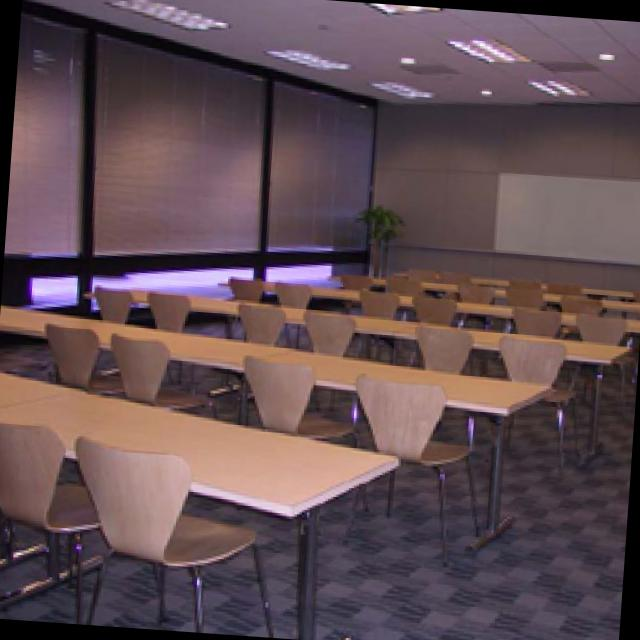2001: (3, 0, 380, 308)
ceiling beam: (29, 0, 640, 109)
ceiling lamps: (119, 0, 236, 31), (450, 34, 534, 64), (269, 44, 356, 72), (527, 74, 594, 93)
chair: (417, 323, 476, 373), (230, 274, 317, 304), (304, 311, 359, 352), (239, 299, 290, 340), (150, 289, 193, 328), (96, 282, 139, 319), (581, 311, 631, 339), (514, 306, 563, 329), (362, 288, 402, 315), (419, 292, 462, 317), (509, 281, 548, 298), (562, 293, 602, 307), (467, 283, 503, 297)
chair -occluded-: (75, 436, 278, 630), (356, 371, 485, 562), (0, 418, 103, 612), (499, 331, 585, 470), (245, 353, 362, 443), (111, 331, 219, 413), (45, 319, 121, 391)
plant -x: (358, 204, 407, 270)
table -X: (4, 303, 556, 547), (0, 366, 403, 634), (81, 284, 636, 466), (223, 277, 640, 332), (333, 273, 640, 312)
whiteboard: (498, 167, 640, 262)
